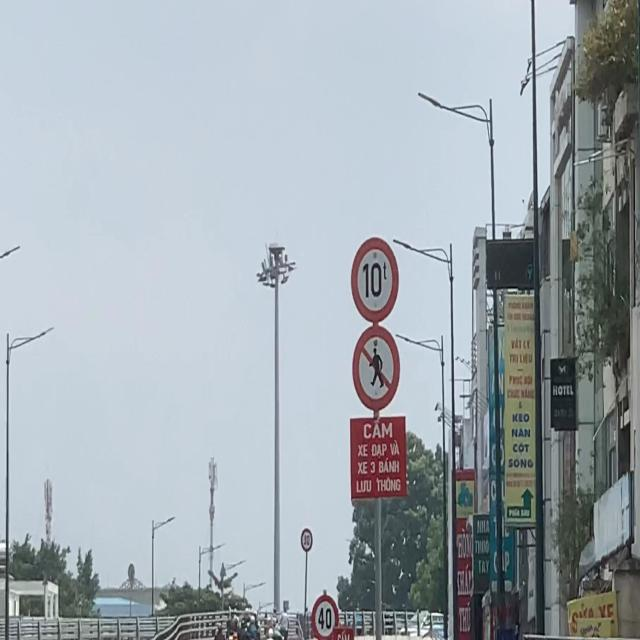Cam con lai: (352, 326, 401, 411)
Toc do toi da: (311, 594, 339, 640), (301, 528, 313, 552)
Trong tai toi da: (351, 237, 399, 322)
